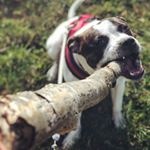puppy: (61, 9, 149, 139)
